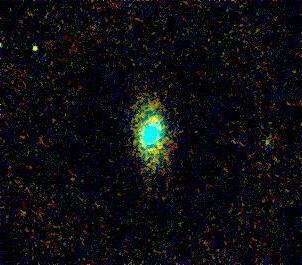star: (22, 33, 52, 63)
